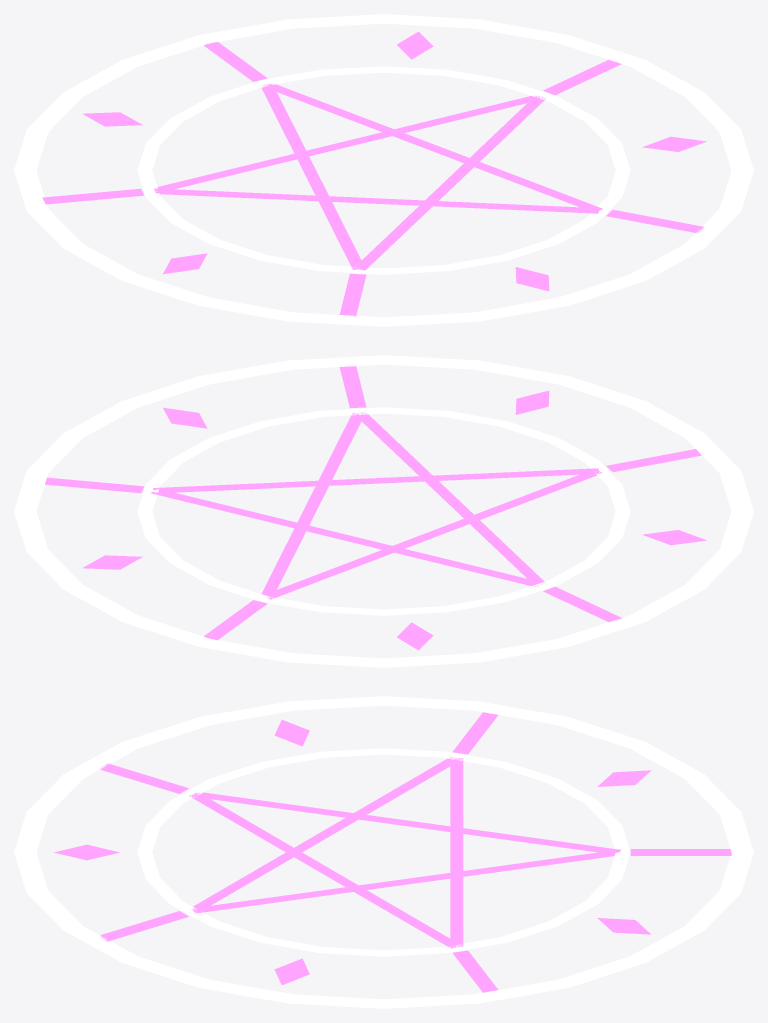
File: profane_glyph.glb
3 renders of one model, top to bottom at view 1: azimuth 30°, elevation 25°; view 2: azimuth 150°, elevation 25°; view 3: azimuth 270°, elevation 25°, orthographic.
Visible parts, largest first — view 1: profane_glyph; view 2: profane_glyph; view 3: profane_glyph.
Boxes of the visible parts, <box> form: profane_glyph: <box>14,14,753,326</box>; profane_glyph: <box>14,355,753,667</box>; profane_glyph: <box>14,696,753,1008</box>.
Size of the model in its own units: 1.98 by 0 by 1.98.
